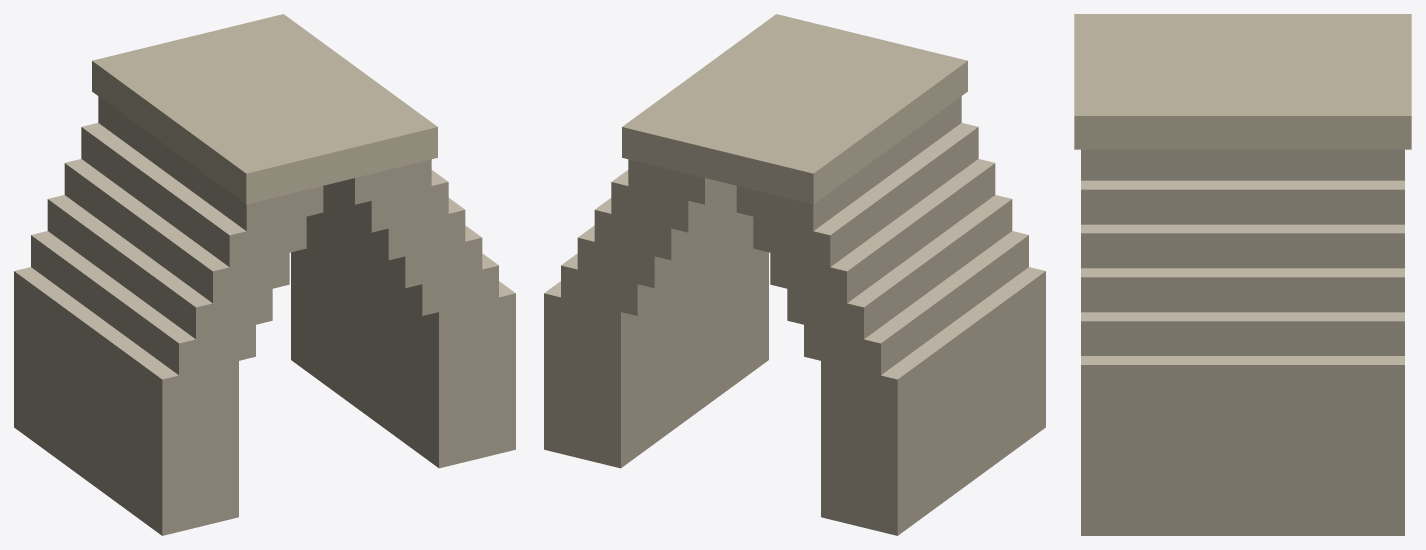
The picture shows the model from 3 angles, left to right: view 1: azimuth 30°, elevation 25°; view 2: azimuth 150°, elevation 25°; view 3: azimuth 270°, elevation 25°; orthographic projection. The views are drawn at different scales.
Visible parts, largest first — view 1: WholeInwardSteppedFullDepthSideWall-1, WholeInwardSteppedFullDepthSideWall1, WholeSingleFlatCrownCap; view 2: WholeInwardSteppedFullDepthSideWall-1, WholeInwardSteppedFullDepthSideWall1, WholeSingleFlatCrownCap; view 3: WholeInwardSteppedFullDepthSideWall1, WholeSingleFlatCrownCap.
Boxes of the visible parts, left/top/right/bottom form: WholeInwardSteppedFullDepthSideWall-1: left=14, top=96, right=323, bottom=535; WholeInwardSteppedFullDepthSideWall1: left=291, top=159, right=515, bottom=468; WholeSingleFlatCrownCap: left=92, top=14, right=437, bottom=204; WholeInwardSteppedFullDepthSideWall-1: left=736, top=96, right=1045, bottom=535; WholeInwardSteppedFullDepthSideWall1: left=544, top=159, right=768, bottom=468; WholeSingleFlatCrownCap: left=622, top=14, right=967, bottom=204; WholeInwardSteppedFullDepthSideWall1: left=1081, top=149, right=1404, bottom=535; WholeSingleFlatCrownCap: left=1074, top=14, right=1411, bottom=149.
Bounding box in the file's own units: 3.36 × 3.13 × 2.54.
